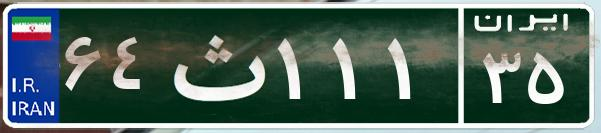1: (385, 28, 445, 110), (273, 28, 330, 110), (330, 28, 385, 110)
3: (475, 38, 525, 113)
4: (110, 28, 158, 105)
5: (525, 38, 570, 115)
6: (57, 26, 110, 107)
ث: (158, 15, 273, 115)
